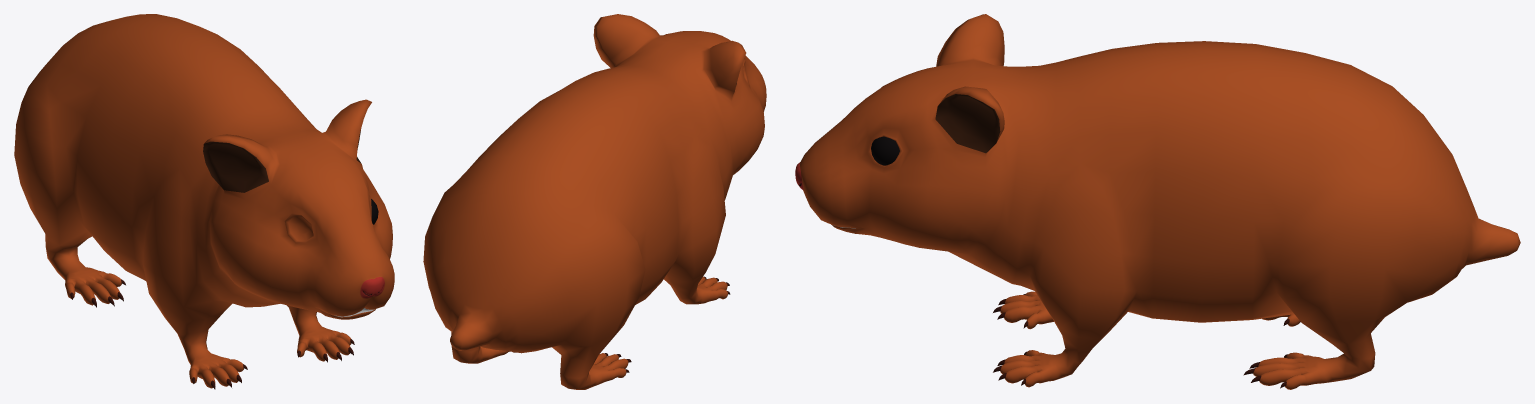
File: hamster.obj
3 renders of one model, left to right at view 1: azimuth 30°, elevation 25°; view 2: azimuth 150°, elevation 25°; view 3: azimuth 270°, elevation 25°, orthographic. The views are drawn at different scales.
Visible parts, largest first — view 1: hamster; view 2: hamster; view 3: hamster, eye.
Part boxes in pixels (x1,y1,x2,y2): hamster: (14,14,394,389); hamster: (423,14,766,389); hamster: (795,14,1520,389); eye: (871,136,899,165).
Bounding box in the file's own units: 0.0654 × 0.0783 × 0.1736.
